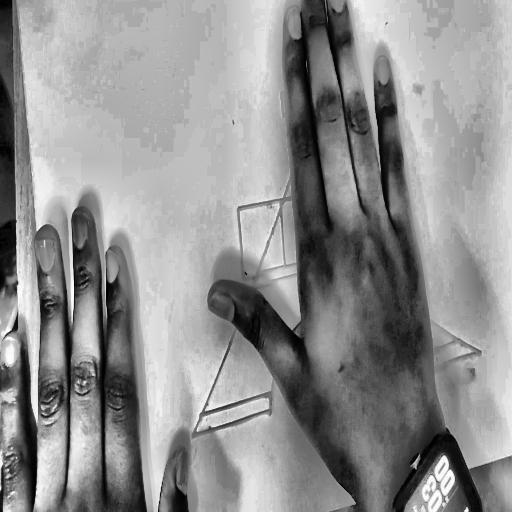eiffel-tower: (140, 0, 510, 451)
